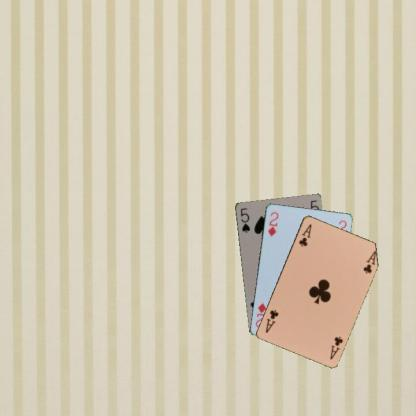2d: (265, 209, 280, 238)
5s: (238, 205, 251, 234)
Ac: (327, 334, 344, 361), (296, 221, 312, 248)
